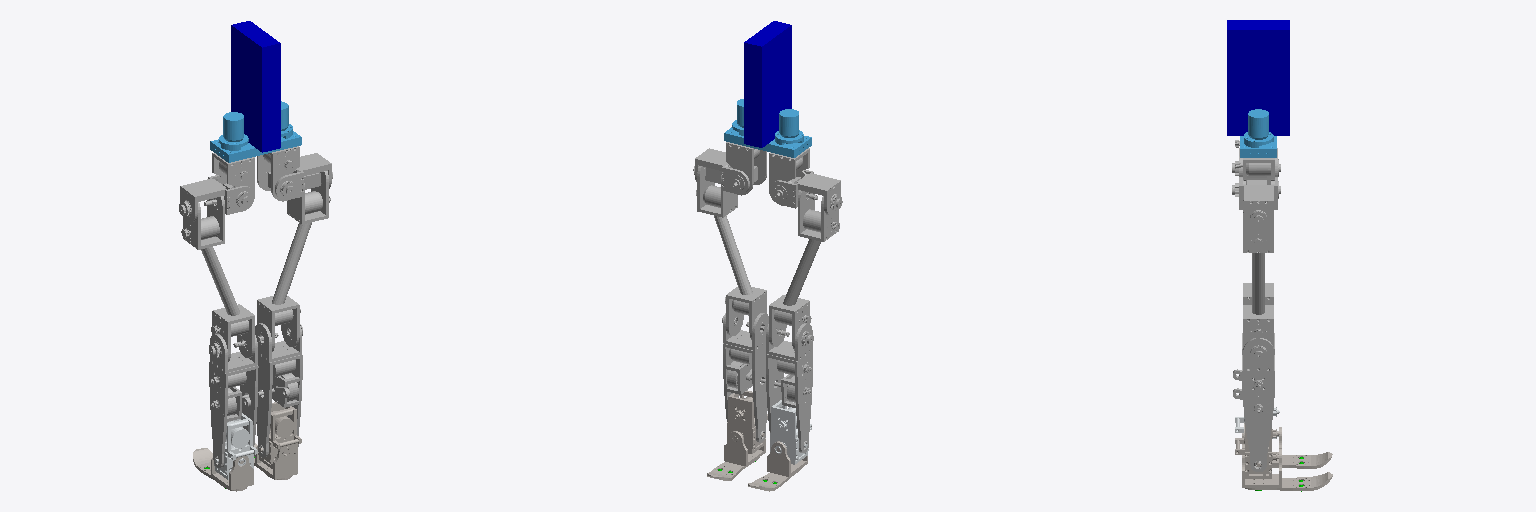
--- What the picture shows (computed from the rendered views, not written in the file) ---
3 views of the same robot in one strip: view 1: azimuth 30°, elevation 25°; view 2: azimuth 150°, elevation 25°; view 3: azimuth 270°, elevation 25° (orthographic).
Model huron with 25 links and 24 joints (12 revolute, 12 fixed), rooted at dummy, posed every joint at zero.
Links seen in each view (by area): view 1: r_hip_pitch_link, l_hip_pitch_link, l_knee_pitch_link, r_knee_pitch_link, upper_body_link, base_link, l_hip_roll_link, battery_link, r_ankle_pitch_link, l_ankle_pitch_link, r_hip_yaw_link, l_ankle_roll_link (+3 smaller); view 2: r_hip_pitch_link, l_hip_pitch_link, l_knee_pitch_link, r_knee_pitch_link, upper_body_link, base_link, battery_link, l_hip_roll_link, r_ankle_pitch_link, l_ankle_pitch_link, r_hip_yaw_link, r_ankle_roll_link (+3 smaller); view 3: upper_body_link, r_knee_pitch_link, r_hip_pitch_link, r_hip_roll_link, battery_link, base_link, r_ankle_roll_link, r_ankle_pitch_link, r_hip_yaw_link, l_ankle_roll_link.
Boxes of the visible links, <box> form: r_hip_pitch_link: <box>257,171,330,351</box>; l_hip_pitch_link: <box>181,196,254,361</box>; l_knee_pitch_link: <box>209,334,258,467</box>; r_knee_pitch_link: <box>255,323,302,457</box>; upper_body_link: <box>231,21,280,120</box>; base_link: <box>210,101,301,162</box>; l_hip_roll_link: <box>179,175,254,222</box>; battery_link: <box>231,85,280,152</box>; r_ankle_pitch_link: <box>258,402,301,468</box>; l_ankle_pitch_link: <box>214,413,257,479</box>; r_hip_yaw_link: <box>257,146,299,201</box>; l_ankle_roll_link: <box>193,448,253,491</box>; r_hip_pitch_link: <box>696,166,766,339</box>; l_hip_pitch_link: <box>769,190,839,350</box>; l_knee_pitch_link: <box>766,323,812,452</box>; r_knee_pitch_link: <box>723,313,768,442</box>; upper_body_link: <box>744,21,791,118</box>; base_link: <box>724,99,811,157</box>; battery_link: <box>744,83,791,147</box>; l_hip_roll_link: <box>769,170,842,215</box>; r_ankle_pitch_link: <box>727,390,767,453</box>; l_ankle_pitch_link: <box>770,400,811,464</box>; r_hip_yaw_link: <box>726,142,766,195</box>; r_ankle_roll_link: <box>707,431,765,480</box>; upper_body_link: <box>1227,20,1289,104</box>; r_knee_pitch_link: <box>1233,338,1274,471</box>; r_hip_pitch_link: <box>1243,200,1273,362</box>; r_hip_roll_link: <box>1232,177,1280,230</box>; battery_link: <box>1227,90,1289,135</box>; base_link: <box>1240,109,1276,157</box>; r_ankle_roll_link: <box>1242,448,1332,490</box>; r_ankle_pitch_link: <box>1235,423,1279,478</box>; r_hip_yaw_link: <box>1235,158,1274,184</box>; l_ankle_roll_link: <box>1242,427,1332,468</box>.
Bounding box of the posed robot: 0.5224 × 0.3159 × 1.49 m (x, y, z).
Meshes: 21 distinct files referenced, 21 mesh visuals loaded (21 binary STL).

URDF robot description (huron):
<?xml version="1.0" ?>
<!-- =================================================================================== -->
<!-- |    This document was autogenerated by xacro from huron.xacro                    | -->
<!-- |    EDITING THIS FILE BY HAND IS NOT RECOMMENDED                                 | -->
<!-- =================================================================================== -->
<robot name="huron">
  <!--
      Top level description file for HURON. This can be used to generate a URDF for non-simulation applications.

      URDF generation syntax:
        ros2 run xacro xacro huron.urdf [ft_sensor:=<ft_sensor|fsr>]
    -->
  <!--
    Macro to generate a basic HURON robot.
  -->
  <joint name="l_fsr1_fixed" type="fixed">
    <origin rpy="0 0 1.5707963267948966" xyz="0.098297 0.02083 0.12788"/>
    <axis xyz="0 0 1"/>
    <parent link="l_ankle_roll_link"/>
    <child link="l_fsr1_link"/>
  </joint>
  <link name="l_fsr1_link">
    <visual>
      <origin rpy=" 0 0 0" xyz="0 0 0"/>
      <geometry>
        <mesh filename="package://huron_description/meshes/l_fsr1.STL" scale="1 1 1"/>
      </geometry>
      <material name="green"/>
    </visual>
    <collision>
      <origin rpy=" 0 0 0" xyz="0 0 0"/>
      <geometry>
        <mesh filename="package://huron_description/meshes/l_fsr1.STL" scale="1 1 1"/>
      </geometry>
      <material name="green"/>
    </collision>
    <inertial>
      <origin rpy="0 0 0" xyz="0 0.0047713 0"/>
      <mass value="0.0061011"/>
      <inertia ixx="3.1713E-07" ixy="0" ixz="0" iyy="4.8773E-07" iyz="0" izz="3.1713E-07"/>
    </inertial>
  </link>
  <joint name="l_fsr2_fixed" type="fixed">
    <origin rpy="0 0 1.5707963267948966" xyz="0.098297 -0.01417 0.12788"/>
    <axis xyz="0 0 1"/>
    <parent link="l_ankle_roll_link"/>
    <child link="l_fsr2_link"/>
  </joint>
  <link name="l_fsr2_link">
    <visual>
      <origin rpy=" 0 0 0" xyz="0 0 0"/>
      <geometry>
        <mesh filename="package://huron_description/meshes/l_fsr2.STL" scale="1 1 1"/>
      </geometry>
      <material name="green"/>
    </visual>
    <collision>
      <origin rpy=" 0 0 0" xyz="0 0 0"/>
      <geometry>
        <mesh filename="package://huron_description/meshes/l_fsr2.STL" scale="1 1 1"/>
      </geometry>
      <material name="green"/>
    </collision>
    <inertial>
      <origin rpy="0 0 0" xyz="0 0.0047713 0"/>
      <mass value="0.0061011"/>
      <inertia ixx="3.1713E-07" ixy="0" ixz="0" iyy="4.8773E-07" iyz="0" izz="3.1713E-07"/>
    </inertial>
  </link>
  <joint name="l_fsr3_fixed" type="fixed">
    <origin rpy="0 0 1.5707963267948966" xyz="0.098297 -0.0165 0"/>
    <axis xyz="0 0 1"/>
    <parent link="l_ankle_roll_link"/>
    <child link="l_fsr3_link"/>
  </joint>
  <link name="l_fsr3_link">
    <visual>
      <origin rpy=" 0 0 0" xyz="0 0 0"/>
      <geometry>
        <mesh filename="package://huron_description/meshes/l_fsr3.STL" scale="1 1 1"/>
      </geometry>
      <material name="green"/>
    </visual>
    <collision>
      <origin rpy=" 0 0 0" xyz="0 0 0"/>
      <geometry>
        <mesh filename="package://huron_description/meshes/l_fsr3.STL" scale="1 1 1"/>
      </geometry>
      <material name="green"/>
    </collision>
    <inertial>
      <origin rpy="0 0 0" xyz="0 0.0047713 0"/>
      <mass value="0.0061011"/>
      <inertia ixx="3.1713E-07" ixy="0" ixz="0" iyy="4.8773E-07" iyz="0" izz="3.1713E-07"/>
    </inertial>
  </link>
  <joint name="l_fsr4_fixed" type="fixed">
    <origin rpy="0 0 1.5707963267948966" xyz="0.098297 0.017008 0"/>
    <axis xyz="0 0 1"/>
    <parent link="l_ankle_roll_link"/>
    <child link="l_fsr4_link"/>
  </joint>
  <link name="l_fsr4_link">
    <visual>
      <origin rpy=" 0 0 0" xyz="0 0 0"/>
      <geometry>
        <mesh filename="package://huron_description/meshes/l_fsr4.STL" scale="1 1 1"/>
      </geometry>
      <material name="green"/>
    </visual>
    <collision>
      <origin rpy=" 0 0 0" xyz="0 0 0"/>
      <geometry>
        <mesh filename="package://huron_description/meshes/l_fsr4.STL" scale="1 1 1"/>
      </geometry>
      <material name="green"/>
    </collision>
    <inertial>
      <origin rpy="0 0 0" xyz="0 0.0047713 0"/>
      <mass value="0.0061011"/>
      <inertia ixx="3.1713E-07" ixy="0" ixz="0" iyy="4.8773E-07" iyz="0" izz="3.1713E-07"/>
    </inertial>
  </link>
  <joint name="r_fsr1_fixed" type="fixed">
    <origin rpy="0 0 1.5707963267948966" xyz="0.098297 0.01417 0.12788"/>
    <axis xyz="0 0 1"/>
    <parent link="r_ankle_roll_link"/>
    <child link="r_fsr1_link"/>
  </joint>
  <link name="r_fsr1_link">
    <visual>
      <origin rpy=" 0 0 0" xyz="0 0 0"/>
      <geometry>
        <mesh filename="package://huron_description/meshes/r_fsr1.STL" scale="1 1 1"/>
      </geometry>
      <material name="green"/>
    </visual>
    <collision>
      <origin rpy=" 0 0 0" xyz="0 0 0"/>
      <geometry>
        <mesh filename="package://huron_description/meshes/r_fsr1.STL" scale="1 1 1"/>
      </geometry>
      <material name="green"/>
    </collision>
    <inertial>
      <origin rpy="0 0 0" xyz="0 0.0047713 0"/>
      <mass value="0.0061011"/>
      <inertia ixx="3.1713E-07" ixy="0" ixz="0" iyy="4.8773E-07" iyz="0" izz="3.1713E-07"/>
    </inertial>
  </link>
  <joint name="r2_fsr_fixed" type="fixed">
    <origin rpy="0 0 1.5707963267948966" xyz="0.098297 -0.02083 0.12788"/>
    <axis xyz="0 0 1"/>
    <parent link="r_ankle_roll_link"/>
    <child link="r_fsr2_link"/>
  </joint>
  <link name="r_fsr2_link">
    <visual>
      <origin rpy=" 0 0 0" xyz="0 0 0"/>
      <geometry>
        <mesh filename="package://huron_description/meshes/r_fsr2.STL" scale="1 1 1"/>
      </geometry>
      <material name="green"/>
    </visual>
    <collision>
      <origin rpy=" 0 0 0" xyz="0 0 0"/>
      <geometry>
        <mesh filename="package://huron_description/meshes/r_fsr2.STL" scale="1 1 1"/>
      </geometry>
      <material name="green"/>
    </collision>
    <inertial>
      <origin rpy="0 0 0" xyz="0 0.0047713 0"/>
      <mass value="0.0061011"/>
      <inertia ixx="3.1713E-07" ixy="0" ixz="0" iyy="4.8773E-07" iyz="0" izz="3.1713E-07"/>
    </inertial>
  </link>
  <joint name="r_fsr3_fixed" type="fixed">
    <origin rpy="0 0 1.5707963267948966" xyz="0.098297 -0.017008 0"/>
    <axis xyz="0 0 1"/>
    <parent link="r_ankle_roll_link"/>
    <child link="r_fsr3_link"/>
  </joint>
  <link name="r_fsr3_link">
    <visual>
      <origin rpy=" 0 0 0" xyz="0 0 0"/>
      <geometry>
        <mesh filename="package://huron_description/meshes/r_fsr3.STL" scale="1 1 1"/>
      </geometry>
      <material name="green"/>
    </visual>
    <collision>
      <origin rpy=" 0 0 0" xyz="0 0 0"/>
      <geometry>
        <mesh filename="package://huron_description/meshes/r_fsr3.STL" scale="1 1 1"/>
      </geometry>
      <material name="green"/>
    </collision>
    <inertial>
      <origin rpy="0 0 0" xyz="0 0.0047713 0"/>
      <mass value="0.0061011"/>
      <inertia ixx="3.1713E-07" ixy="0" ixz="0" iyy="4.8773E-07" iyz="0" izz="3.1713E-07"/>
    </inertial>
  </link>
  <!-- right ft fixed joint 4 -->
  <joint name="r4_ft_fixed" type="fixed">
    <origin rpy="0 0 1.5707963267948966" xyz="0.098297 0.0165 0"/>
    <axis xyz="0 0 1"/>
    <parent link="r_ankle_roll_link"/>
    <child link="r_fsr4_link"/>
  </joint>
  <link name="r_fsr4_link">
    <visual>
      <origin rpy=" 0 0 0" xyz="0 0 0"/>
      <geometry>
        <mesh filename="package://huron_description/meshes/r_fsr4.STL" scale="1 1 1"/>
      </geometry>
      <material name="green"/>
    </visual>
    <collision>
      <origin rpy=" 0 0 0" xyz="0 0 0"/>
      <geometry>
        <mesh filename="package://huron_description/meshes/r_fsr4.STL" scale="1 1 1"/>
      </geometry>
      <material name="green"/>
    </collision>
    <inertial>
      <origin rpy="0 0 0" xyz="0 0.0047713 0"/>
      <mass value="0.0061011"/>
      <inertia ixx="3.1713E-07" ixy="0" ixz="0" iyy="4.8773E-07" iyz="0" izz="3.1713E-07"/>
    </inertial>
  </link>
  <material name="black">
    <color rgba="0.0 0.0 0.0 1.0"/>
  </material>
  <material name="blue">
    <color rgba="0.0 0.0 0.8 1.0"/>
  </material>
  <material name="green">
    <color rgba="0.0 0.8 0.0 1.0"/>
  </material>
  <material name="grey">
    <color rgba="0.75294 0.75294 0.75294 1"/>
  </material>
  <material name="orange">
    <color rgba="1.0 0.4235294117647059 0.0392156862745098 1.0"/>
  </material>
  <material name="brown">
    <color rgba="0.8705882352941177 0.8117647058823529 0.7647058823529411 1.0"/>
  </material>
  <material name="red">
    <color rgba="0.8 0.0 0.0 1.0"/>
  </material>
  <material name="white">
    <color rgba="1.0 1.0 1.0 1.0"/>
  </material>
  <!-- Right leg -->
  <!-- Right foot sensors -->
  <link name="dummy"/>
  <link name="base_link">
    <visual>
      <origin rpy="0 0 0" xyz="0 0 0"/>
      <geometry>
        <mesh filename="package://huron_description/meshes/base_link.STL" scale="1 1 1"/>
      </geometry>
    </visual>
    <collision>
      <origin rpy="0 0 0" xyz="0 0 0"/>
      <geometry>
        <mesh filename="package://huron_description/meshes/base_link.STL" scale="1 1 1"/>
      </geometry>
    </collision>
    <inertial>
      <origin rpy="0 0 0" xyz="-1.3585E-07 5.07E-07 0.026975"/>
      <mass value="3.4072"/>
      <inertia ixx="0.00319" ixy="-1.7776E-09" ixz="-1.7316E-09" iyy="0.010531" iyz="6.4623E-09" izz="0.012315"/>
    </inertial>
  </link>
  <joint name="dummy_joint" type="fixed">
    <parent link="dummy"/>
    <child link="base_link"/>
  </joint>
  <!-- imu joint -->
  <joint name="imu_fixed" type="fixed">
    <origin rpy="0 0 0" xyz="0 0 0"/>
    <parent link="base_link"/>
    <child link="imu_link"/>
  </joint>
  <link name="imu_link"/>
  <!-- right hip yaw joint -->
  <joint name="r_hip_yaw_joint" type="revolute">
    <origin rpy="0 0 3.141592653589793" xyz="0.0775 0 -0.14512"/>
    <parent link="base_link"/>
    <child link="r_hip_yaw_link"/>
    <axis xyz="0 0 1"/>
    <limit effort="1000000" lower="-3.1416" upper="3.1416" velocity="3000"/>
    <dynamics damping="0.5" friction="1"/>
  </joint>
  <transmission name="r_hip_yaw_joint_tran">
    <type>transmission_interface/SimpleTransmission</type>
    <joint name="r_hip_yaw_joint">
      <hardwareInterface>hardware_interface/EffortJointInterface</hardwareInterface>
    </joint>
    <actuator name="r_hip_yaw_joint_motor">
      <hardwareInterface>EffortJointInterface</hardwareInterface>
      <mechanicalReduction>1</mechanicalReduction>
    </actuator>
  </transmission>
  <!-- right hip yaw link -->
  <link name="r_hip_yaw_link">
    <visual>
      <origin rpy="0 0 0" xyz="0 0 0"/>
      <geometry>
        <mesh filename="package://huron_description/meshes/r_hip_yaw_link.STL" scale="1 1 1"/>
      </geometry>
      <material name="grey"/>
    </visual>
    <collision>
      <origin rpy="0 0 0" xyz="0 0 0"/>
      <geometry>
        <mesh filename="package://huron_description/meshes/r_hip_yaw_link.STL" scale="1 1 1"/>
      </geometry>
      <material name="grey"/>
    </collision>
    <inertial>
      <origin rpy="0 0 0" xyz="0.00063365 0.00053469 0.063505"/>
      <mass value="1.6968"/>
      <inertia ixx="0.0022702" ixy="-2.4951E-10" ixz="6.6464E-06" iyy="0.0026746" iyz="5.1468E-09" izz="0.001238"/>
    </inertial>
  </link>
  <!-- right hip roll joint-->
  <joint name="r_hip_roll_joint" type="revolute">
    <origin rpy="1.5707963267948966 0 0" xyz="0 0 0"/>
    <parent link="r_hip_yaw_link"/>
    <child link="r_hip_roll_link"/>
    <axis xyz="0 0 1"/>
    <limit effort="1000000" lower="-0.5236" upper="0.01" velocity="3000"/>
    <dynamics damping="0.5" friction="1"/>
  </joint>
  <transmission name="r_hip_roll_joint_tran">
    <type>transmission_interface/SimpleTransmission</type>
    <joint name="r_hip_roll_joint">
      <hardwareInterface>hardware_interface/EffortJointInterface</hardwareInterface>
    </joint>
    <actuator name="r_hip_roll_joint_motor">
      <hardwareInterface>EffortJointInterface</hardwareInterface>
      <mechanicalReduction>1</mechanicalReduction>
    </actuator>
  </transmission>
  <!-- right hip roll link -->
  <link name="r_hip_roll_link">
    <visual>
      <origin rpy="0 0 0" xyz="0 0 0"/>
      <geometry>
        <mesh filename="package://huron_description/meshes/r_hip_roll_link.STL" scale="1 1 1"/>
      </geometry>
      <material name="grey"/>
    </visual>
    <collision>
      <origin rpy="0 0 0" xyz="0 0 0"/>
      <geometry>
        <mesh filename="package://huron_description/meshes/r_hip_roll_link.STL" scale="1 1 1"/>
      </geometry>
      <material name="grey"/>
    </collision>
    <inertial>
      <origin rpy="0 0 0" xyz="-0.07196 0.0061153 -0.0005211"/>
      <mass value="1.1884"/>
      <inertia ixx="0.00098222" ixy="9.9267E-08" ixz="4.9764E-09" iyy="0.00097045" iyz="9.7285E-08" izz="0.00092365"/>
    </inertial>
  </link>
  <!-- right hip pitch joint -->
  <joint name="r_hip_pitch_joint" type="revolute">
    <origin rpy="-1.5707963267948966 0 -1.5707963267948966" xyz="-1.6665E-05 -0.0165 -5E-05"/>
    <parent link="r_hip_roll_link"/>
    <child link="r_hip_pitch_link"/>
    <axis xyz="0 0 1"/>
    <limit effort="1000000" lower="-1.2217" upper="1.2217" velocity="3000"/>
    <dynamics damping="0.5" friction="1"/>
  </joint>
  <transmission name="r_hip_pitch_joint_tran">
    <type>transmission_interface/SimpleTransmission</type>
    <joint name="r_hip_pitch_joint">
      <hardwareInterface>hardware_interface/EffortJointInterface</hardwareInterface>
    </joint>
    <actuator name="r_hip_pitch_joint_motor">
      <hardwareInterface>EffortJointInterface</hardwareInterface>
      <mechanicalReduction>1</mechanicalReduction>
    </actuator>
  </transmission>
  <!-- right hip pitch link -->
  <link name="r_hip_pitch_link">
    <visual>
      <origin rpy="0 0 0" xyz="0 0 0"/>
      <geometry>
        <mesh filename="package://huron_description/meshes/r_hip_pitch_link.STL" scale="1 1 1"/>
      </geometry>
      <material name="grey"/>
    </visual>
    <collision>
      <origin rpy="0 0 0" xyz="0 0 0"/>
      <geometry>
        <mesh filename="package://huron_description/meshes/r_hip_pitch_link.STL" scale="1 1 1"/>
      </geometry>
      <material name="grey"/>
    </collision>
    <inertial>
      <origin rpy="0 0 0" xyz="0.25103 -7.7295E-06 -0.053135"/>
      <mass value="4.2544"/>
      <inertia ixx="0.0034501" ixy="1.1102E-07" ixz="-0.0019797" iyy="0.010035" iyz="-4.8767E-10" izz="0.01009"/>
    </inertial>
  </link>
  <!-- right knee pitch joint -->
  <joint name="r_knee_pitch_joint" type="revolute">
    <origin rpy="0 0 0" xyz="0.49628 0 0"/>
    <parent link="r_hip_pitch_link"/>
    <child link="r_knee_pitch_link"/>
    <axis xyz="0 0 1"/>
    <limit effort="1000000" lower="-1.5707963267948966" upper="1.5707963267948966" velocity="3000"/>
    <dynamics damping="0.5" friction="1"/>
  </joint>
  <transmission name="r_knee_pitch_joint_tran">
    <type>transmission_interface/SimpleTransmission</type>
    <joint name="r_knee_pitch_joint">
      <hardwareInterface>hardware_interface/EffortJointInterface</hardwareInterface>
    </joint>
    <actuator name="r_knee_pitch_joint_motor">
      <hardwareInterface>EffortJointInterface</hardwareInterface>
      <mechanicalReduction>1</mechanicalReduction>
    </actuator>
  </transmission>
  <!-- right knee pitch link -->
  <link name="r_knee_pitch_link">
    <visual>
      <origin rpy="0 0 0" xyz="0 0 0"/>
      <geometry>
        <mesh filename="package://huron_description/meshes/r_knee_pitch_link.STL" scale="1 1 1"/>
      </geometry>
      <material name="grey"/>
    </visual>
    <collision>
      <origin rpy="0 0 0" xyz="0 0 0"/>
      <geometry>
        <mesh filename="package://huron_description/meshes/r_knee_pitch_link.STL" scale="1 1 1"/>
      </geometry>
      <material name="grey"/>
    </collision>
    <inertial>
      <origin rpy="0 0 0" xyz="0.13397 0.00066001 -0.0028723"/>
      <mass value="3.4875"/>
      <inertia ixx="0.0064814" ixy="1.2524E-05" ixz="2.7966E-05" iyy="0.019762" iyz="-1.0417E-05" izz="0.017354"/>
    </inertial>
  </link>
  <!-- right ankle pitch joint -->
  <joint name="r_ankle_pitch_joint" type="revolute">
    <origin rpy="0 0 0.0" xyz="0.37 0 0"/>
    <parent link="r_knee_pitch_link"/>
    <child link="r_ankle_pitch_link"/>
    <axis xyz="0 0 1"/>
    <limit effort="1000000" lower="-0.5236" upper="0.1745" velocity="3000"/>
    <dynamics damping="0.5" friction="1"/>
  </joint>
  <transmission name="r_ankle_pitch_joint_tran">
    <type>transmission_interface/SimpleTransmission</type>
    <joint name="r_ankle_pitch_joint">
      <hardwareInterface>hardware_interface/EffortJointInterface</hardwareInterface>
    </joint>
    <actuator name="r_ankle_pitch_joint_motor">
      <hardwareInterface>EffortJointInterface</hardwareInterface>
      <mechanicalReduction>1</mechanicalReduction>
    </actuator>
  </transmission>
  <!-- right ankle pitch link -->
  <link name="r_ankle_pitch_link">
    <visual>
      <origin rpy="0 0 0" xyz="0 0 0"/>
      <geometry>
        <mesh filename="package://huron_description/meshes/r_ankle_pitch_link.STL" scale="1 1 1"/>
      </geometry>
      <material name="">
        <color rgba="0.77647 0.75686 0.73725 1"/>
      </material>
    </visual>
    <collision>
      <origin rpy="0 0 0" xyz="0 0 0"/>
      <geometry>
        <mesh filename="package://huron_description/meshes/r_ankle_pitch_link.STL" scale="1 1 1"/>
      </geometry>
      <material name="">
        <color rgba="0.77647 0.75686 0.73725 1"/>
      </material>
    </collision>
    <inertial>
      <origin rpy="0 0 0" xyz="-0.029808 0.001045 3.1134E-08"/>
      <mass value="2.4242"/>
      <inertia ixx="0.0025143" ixy="-0.00025651" ixz="1.1633E-12" iyy="0.0045125" iyz="6.7197E-10" izz="0.0049235"/>
    </inertial>
  </link>
  <!-- right ankle roll joint -->
  <joint name="r_ankle_roll_joint" type="revolute">
    <origin rpy="1.5707963267948966 0 0" xyz="0 0 0"/>
    <parent link="r_ankle_pitch_link"/>
    <child link="r_ankle_roll_link"/>
    <axis xyz="0 0 1"/>
    <limit effort="1000000" lower="-0.3491" upper="0.3491" velocity="3000"/>
    <dynamics damping="0.5" friction="10"/>
  </joint>
  <transmission name="r_ankle_roll_joint_tran">
    <type>transmission_interface/SimpleTransmission</type>
    <joint name="r_ankle_roll_joint">
      <hardwareInterface>hardware_interface/EffortJointInterface</hardwareInterface>
    </joint>
    <actuator name="r_ankle_roll_joint_motor">
      <hardwareInterface>EffortJointInterface</hardwareInterface>
      <mechanicalReduction>1</mechanicalReduction>
    </actuator>
  </transmission>
  <!-- right ankle roll link -->
  <link name="r_ankle_roll_link">
    <visual>
      <origin rpy="0 0 0" xyz="0 0 0"/>
      <geometry>
        <mesh filename="package://huron_description/meshes/r_ankle_roll_link.STL" scale="1 1 1"/>
      </geometry>
      <material name="">
        <color rgba="0.77647 0.75686 0.73725 1"/>
      </material>
    </visual>
    <collision>
      <origin rpy="0 0 0" xyz="0 0 0"/>
      <geometry>
        <mesh filename="package://huron_description/meshes/r_ankle_roll_link.STL" scale="1 1 1"/>
      </geometry>
      <material name="">
        <color rgba="0.77647 0.75686 0.73725 1"/>
      </material>
    </collision>
    <inertial>
      <origin rpy="0 0 0" xyz="0.07353 -6.708E-05 0.063947"/>
      <mass value="1.8633"/>
      <inertia ixx="0.0086824" ixy="9.8353E-06" ixz="0.00024334" iyy="0.0084059" iyz="-0.00012379" izz="0.0013021"/>
    </inertial>
  </link>
  <!-- left hip yaw joint -->
  <joint name="l_hip_yaw_joint" type="revolute">
    <origin rpy="0 0 0" xyz="-0.0775 0 -0.14512"/>
    <parent link="base_link"/>
    <child link="l_hip_yaw_link"/>
    <axis xyz="0 0 1"/>
    <limit effort="1000000" lower="-3.1416" upper="3.1416" velocity="3000"/>
    <dynamics damping="0.5" friction="1"/>
  </joint>
  <transmission name="l_hip_yaw_joint_tran">
    <type>transmission_interface/SimpleTransmission</type>
    <joint name="l_hip_yaw_joint">
      <hardwareInterface>hardware_interface/EffortJointInterface</hardwareInterface>
    </joint>
    <actuator name="l_hip_yaw_joint_motor">
      <hardwareInterface>EffortJointInterface</hardwareInterface>
      <mechanicalReduction>1</mechanicalReduction>
    </actuator>
  </transmission>
  <!-- left hip yaw link -->
  <link name="l_hip_yaw_link">
    <visual>
      <origin rpy="0 0 0" xyz="0 0 0"/>
      <geometry>
        <mesh filename="package://huron_description/meshes/l_hip_yaw_link.STL" scale="1 1 1"/>
      </geometry>
      <material name="grey"/>
    </visual>
    <collision>
      <origin rpy="0 0 0" xyz="0 0 0"/>
      <geometry>
        <mesh filename="package://huron_description/meshes/l_hip_yaw_link.STL" scale="1 1 1"/>
      </geometry>
      <material name="grey"/>
    </collision>
    <inertial>
      <origin rpy="0 0 0" xyz="0.00063365 -0.00053469 0.063505"/>
      <mass value="1.6968"/>
      <inertia ixx="0.0022702" ixy="-2.4951E-10" ixz="6.6464E-06" iyy="0.0026746" iyz="-5.1468E-09" izz="0.001238"/>
    </inertial>
  </link>
  <!-- left hip roll joint-->
  <joint name="l_hip_roll_joint" type="revolute">
    <origin rpy="1.5707963267948966 0 3.141592653589793" xyz="0 0 0"/>
    <parent link="l_hip_yaw_link"/>
    <child link="l_hip_roll_link"/>
    <axis xyz="0 0 1"/>
    <limit effort="1000000" lower="-0.01" upper="0.5236" velocity="3000"/>
    <dynamics damping="0.5" friction="1"/>
  </joint>
  <transmission name="l_hip_roll_joint_tran">
    <type>transmission_interface/SimpleTransmission</type>
    <joint name="l_hip_roll_joint">
      <hardwareInterface>hardware_interface/EffortJointInterface</hardwareInterface>
    </joint>
    <actuator name="l_hip_roll_joint_motor">
      <hardwareInterface>EffortJointInterface</hardwareInterface>
      <mechanicalReduction>1</mechanicalReduction>
    </actuator>
  </transmission>
  <!-- left hip roll link -->
  <link name="l_hip_roll_link">
    <visual>
      <origin rpy="0 0 0" xyz="0 0 0"/>
      <geometry>
        <mesh filename="package://huron_description/meshes/l_hip_roll_link.STL" scale="1 1 1"/>
      </geometry>
      <material name="grey"/>
    </visual>
    <collision>
      <origin rpy="0 0 0" xyz="0 0 0"/>
      <geometry>
        <mesh filename="package://huron_description/meshes/l_hip_roll_link.STL" scale="1 1 1"/>
      </geometry>
      <material name="grey"/>
    </collision>
    <inertial>
      <origin rpy="0 0 0" xyz="0.07196 0.0061153 -0.0005211"/>
      <mass value="1.1884"/>
      <inertia ixx="0.00098222" ixy="-9.9267E-08" ixz="4.9764E-09" iyy="0.00097045" iyz="-9.7285E-08" izz="0.00092365"/>
    </inertial>
  </link>
  <!-- left hip pitch joint -->
  <joint name="l_hip_pitch_joint" type="revolute">
    <origin rpy="-1.5707963267948966 0 -1.5707963267948966" xyz="1.6665E-05 -0.0165 -5E-05"/>
    <parent link="l_hip_roll_link"/>
    <child link="l_hip_pitch_link"/>
    <axis xyz="0 0 1"/>
    <limit effort="1000000" lower="-1.2217" upper="1.2217" velocity="3000"/>
    <dynamics damping="0.5" friction="1"/>
  </joint>
  <transmission name="l_hip_pitch_joint_tran">
    <type>transmission_interface/SimpleTransmission</type>
    <joint name="l_hip_pitch_joint">
      <hardwareInterface>hardware_interface/EffortJointInterface</hardwareInterface>
    </joint>
    <actuator name="l_hip_pitch_joint_motor">
      <hardwareInterface>EffortJointInterface</hardwareInterface>
      <mechanicalReduction>1</mechanicalReduction>
    </actuator>
  </transmission>
  <!-- left hip pitch link -->
  <link name="l_hip_pitch_link">
    <visual>
      <origin rpy="0 0 0" xyz="0 0 0"/>
      <geometry>
        <mesh filename="package://huron_description/meshes/l_hip_pitch_link.STL" scale="1 1 1"/>
      </geometry>
      <material name="grey"/>
    </visual>
    <collision>
      <origin rpy="0 0 0" xyz="0 0 0"/>
      <geometry>
        <mesh filename="package://huron_description/meshes/l_hip_pitch_link.STL" scale="1 1 1"/>
      </geometry>
      <material name="grey"/>
    </collision>
    <inertial>
      <origin rpy="0 0 0" xyz="0.25103 -7.7295E-06 0.053135"/>
      <mass value="4.2544"/>
      <inertia ixx="0.0034501" ixy="-1.1102E-07" ixz="0.0019797" iyy="0.010035" iyz="-4.8767E-10" izz="0.01009"/>
    </inertial>
  </link>
  <!-- left knee pitch joint -->
  <joint name="l_knee_pitch_joint" type="revolute">
    <origin rpy="0 0 0" xyz="0.49628 0 0"/>
    <parent link="l_hip_pitch_link"/>
    <child link="l_knee_pitch_link"/>
    <axis xyz="0 0 1"/>
    <limit effort="1000000" lower="-1.5707963267948966" upper="1.5707963267948966" velocity="3000"/>
    <dynamics damping="0.5" friction="1"/>
  </joint>
  <transmission name="l_knee_pitch_joint_tran">
    <type>transmission_interface/SimpleTransmission</type>
    <joint name="l_knee_pitch_joint">
      <hardwareInterface>hardware_interface/EffortJointInterface</hardwareInterface>
    </joint>
    <actuator name="l_knee_pitch_joint_motor">
      <hardwareInterface>EffortJointInterface</hardwareInterface>
      <mechanicalReduction>1</mechanicalReduction>
    </actuator>
  </transmission>
  <!-- left knee pitch link -->
  <link name="l_knee_pitch_link">
    <visual>
      <origin rpy="0 0 0" xyz="0 0 0"/>
      <geometry>
        <mesh filename="package://huron_description/meshes/l_knee_pitch_link.STL" scale="1 1 1"/>
      </geometry>
      <material name="grey"/>
    </visual>
    <collision>
      <origin rpy="0 0 0" xyz="0 0 0"/>
      <geometry>
        <mesh filename="package://huron_description/meshes/l_knee_pitch_link.STL" scale="1 1 1"/>
      </geometry>
      <material name="grey"/>
    </collision>
    <inertial>
      <origin rpy="0 0 0" xyz="0.13397 0.00066001 0.0028723"/>
      <mass value="3.4875"/>
      <inertia ixx="0.0064814" ixy="1.2524E-05" ixz="-2.7966E-05" iyy="0.019762" iyz="1.0417E-05" izz="0.017354"/>
    </inertial>
  </link>
  <!-- left ankle pitch joint -->
  <joint name="l_ankle_pitch_joint" type="revolute">
    <origin rpy="0 0 0.0" xyz="0.37 0 0"/>
    <parent link="l_knee_pitch_link"/>
    <child link="l_ankle_pitch_link"/>
    <axis xyz="0 0 1"/>
    <limit effort="1000000" lower="-0.5236" upper="0.1745" velocity="3000"/>
    <dynamics damping="0.5" friction="1"/>
  </joint>
  <transmission name="l_ankle_pitch_joint_tran">
    <type>transmission_interface/SimpleTransmission</type>
    <joint name="l_ankle_pitch_joint">
      <hardwareInterface>hardware_interface/EffortJointInterface</hardwareInterface>
    </joint>
    <actuator name="l_ankle_pitch_joint_motor">
      <hardwareInterface>EffortJointInterface</hardwareInterface>
      <mechanicalReduction>1</mechanicalReduction>
    </actuator>
  </transmission>
  <!-- left ankle pitch link -->
  <link name="l_ankle_pitch_link">
    <visual>
      <origin rpy="0 0 0" xyz="0 0 0"/>
      <geometry>
        <mesh filename="package://huron_description/meshes/l_ankle_pitch_link.STL" scale="1 1 1"/>
      </geometry>
      <material name="">
        <color rgba="0.89804 0.91765 0.92941 1"/>
      </material>
    </visual>
    <collision>
      <origin rpy="0 0 0" xyz="0 0 0"/>
      <geometry>
        <mesh filename="package://huron_description/meshes/l_ankle_pitch_link.STL" scale="1 1 1"/>
      </geometry>
      <material name="">
        <color rgba="0.89804 0.91765 0.92941 1"/>
      </material>
    </collision>
    <inertial>
      <origin rpy="0 0 0" xyz="-0.029808 0.001045 3.1134E-08"/>
      <mass value="2.4242"/>
      <inertia ixx="0.0025143" ixy="-0.00025651" ixz="1.1633E-12" iyy="0.0045125" iyz="6.7197E-10" izz="0.0049235"/>
    </inertial>
  </link>
  <!-- left ankle roll pitch -->
  <joint name="l_ankle_roll_joint" type="revolute">
    <origin rpy="1.5707963267948966 0 0" xyz="0 0 0"/>
    <parent link="l_ankle_pitch_link"/>
    <child link="l_ankle_roll_link"/>
    <axis xyz="0 0 1"/>
    <limit effort="1000000" lower="-0.3491" upper="0.3491" velocity="3000"/>
    <dynamics damping="0.5" friction="10"/>
  </joint>
  <transmission name="l_ankle_roll_joint_tran">
    <type>transmission_interface/SimpleTransmission</type>
    <joint name="l_ankle_roll_joint">
      <hardwareInterface>hardware_interface/EffortJointInterface</hardwareInterface>
    </joint>
    <actuator name="l_ankle_roll_joint_motor">
      <hardwareInterface>EffortJointInterface</hardwareInterface>
      <mechanicalReduction>1</mechanicalReduction>
    </actuator>
  </transmission>
  <!-- left ankle roll link -->
  <link name="l_ankle_roll_link">
    <visual>
      <origin rpy="0 0 0" xyz="0 0 0"/>
      <geometry>
        <mesh filename="package://huron_description/meshes/l_ankle_roll_link.STL" scale="1 1 1"/>
      </geometry>
      <material name="">
        <color rgba="0.77647 0.75686 0.73725 1"/>
      </material>
    </visual>
    <collision>
      <origin rpy="0 0 0" xyz="0 0 0"/>
      <geometry>
        <mesh filename="package://huron_description/meshes/l_ankle_roll_link.STL" scale="1 1 1"/>
      </geometry>
      <material name="">
        <color rgba="0.77647 0.75686 0.73725 1"/>
      </material>
    </collision>
    <inertial>
      <origin rpy="0 0 0" xyz="0.07353 6.708E-05 0.063947"/>
      <mass value="1.8633"/>
      <inertia ixx="0.0086824" ixy="-9.8353E-06" ixz="0.00024334" iyy="0.0084059" iyz="0.00012379" izz="0.0013021"/>
    </inertial>
  </link>
  <!-- Battery -->
  <link name="battery_link">
    <visual>
      <origin rpy="0 0 0" xyz="0 0 0"/>
      <geometry>
        <box size="0.065 0.188 0.151"/>
      </geometry>
      <material name="blue"/>
    </visual>
    <collision>
      <origin rpy="0 0 0" xyz="0 0 0"/>
      <geometry>
        <box size="0.065 0.188 0.151"/>
      </geometry>
      <material name="blue"/>
    </collision>
    <inertial>
      <origin rpy="0 0 0" xyz="0 0 0"/>
      <mass value="3.90089"/>
      <inertia ixx="0.01890143742" ixy="0" ixz="0" iyy="0.0128628597" iyz="0" izz="0.008785454428"/>
    </inertial>
  </link>
  <joint name="battery_fixed" type="fixed">
    <origin rpy="0 0 0" xyz="0 0 0.0895"/>
    <parent link="base_link"/>
    <child link="battery_link"/>
  </joint>
  <!-- Upper body visualization -->
  <link name="upper_body_link">
    <visual>
      <origin rpy="0 0 0" xyz="0 0 0"/>
      <geometry>
        <box size="0.065 0.188 0.25"/>
      </geometry>
      <material name="blue"/>
    </visual>
    <collision>
      <origin rpy="0 0 0" xyz="0 0 0"/>
      <geometry>
        <box size="0.065 0.188 0.25"/>
      </geometry>
      <material name="blue"/>
    </collision>
    <inertial>
      <origin rpy="0 0 0" xyz="0 0 0"/>
      <mass value="0.00001"/>
      <inertia ixx="0.000001" ixy="0" ixz="0" iyy="0.000001" iyz="0" izz="0.000001"/>
    </inertial>
  </link>
  <joint name="upper_body_fixed" type="fixed">
    <origin rpy="0 0 0" xyz="0 0 0.1505"/>
    <parent link="battery_link"/>
    <child link="upper_body_link"/>
  </joint>
</robot>
